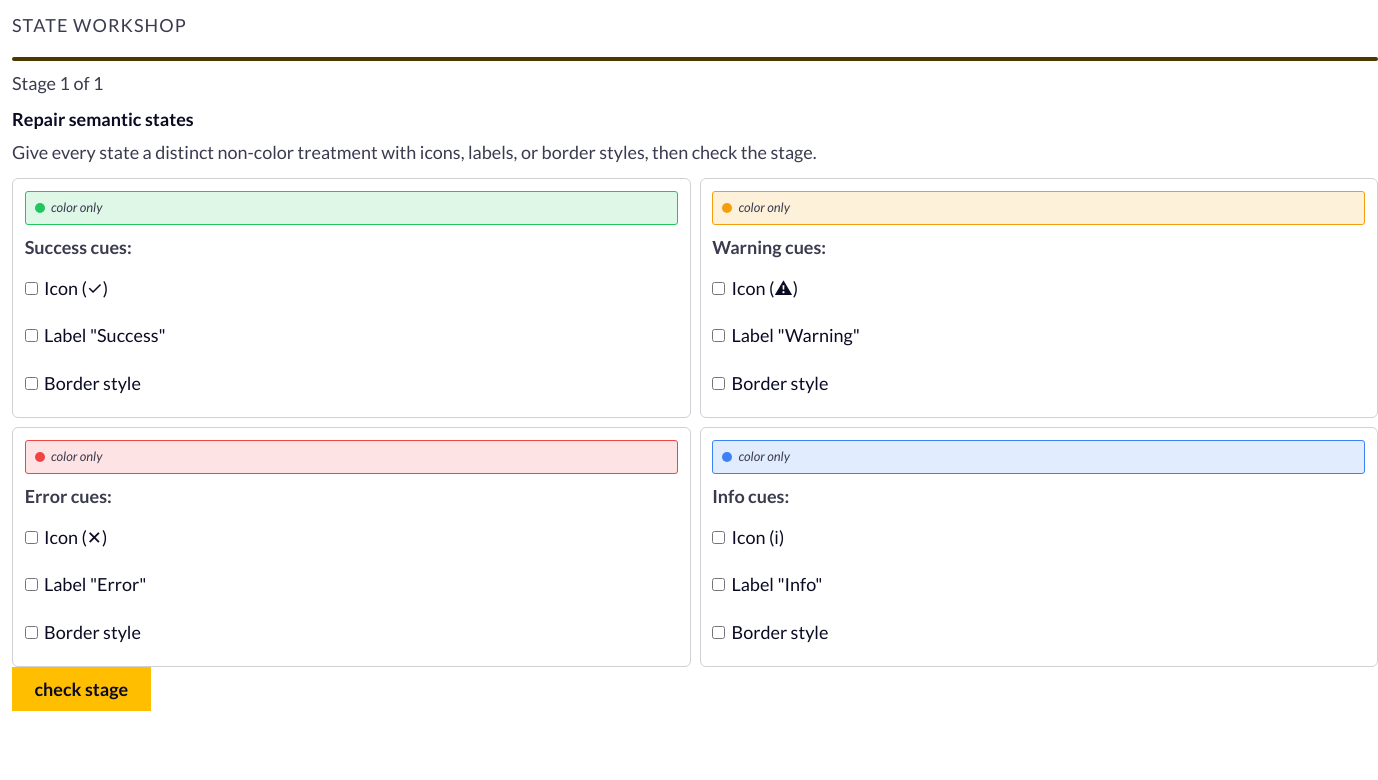
Test case: StateWorkshopTool › completes when each state has a distinct label
This screenshot has width=1378, height=780.
Click the checkbox labelled "Label \"Success\"" at (31, 336), box [25,329,38,342]
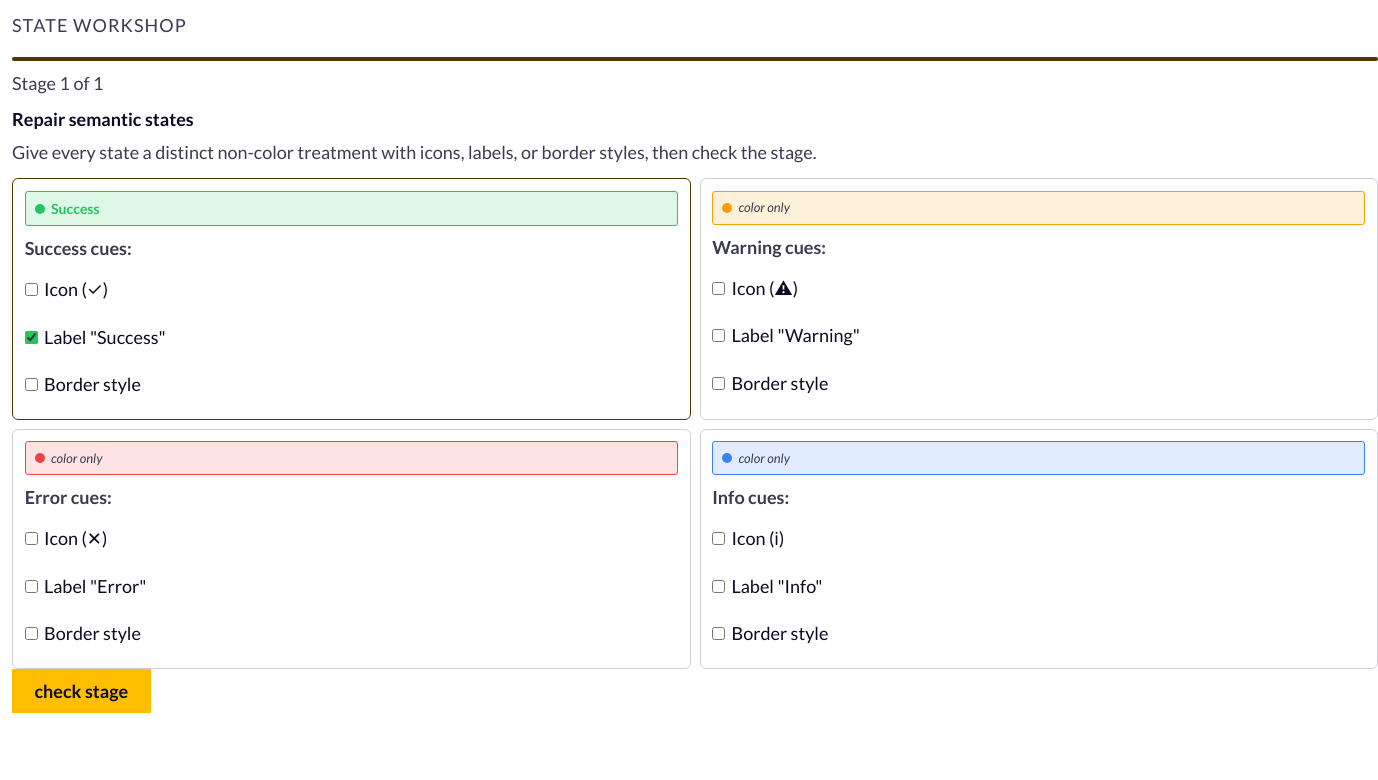
Click the checkbox labelled "Label \"Warning\"" at (719, 336), box [712,329,725,342]
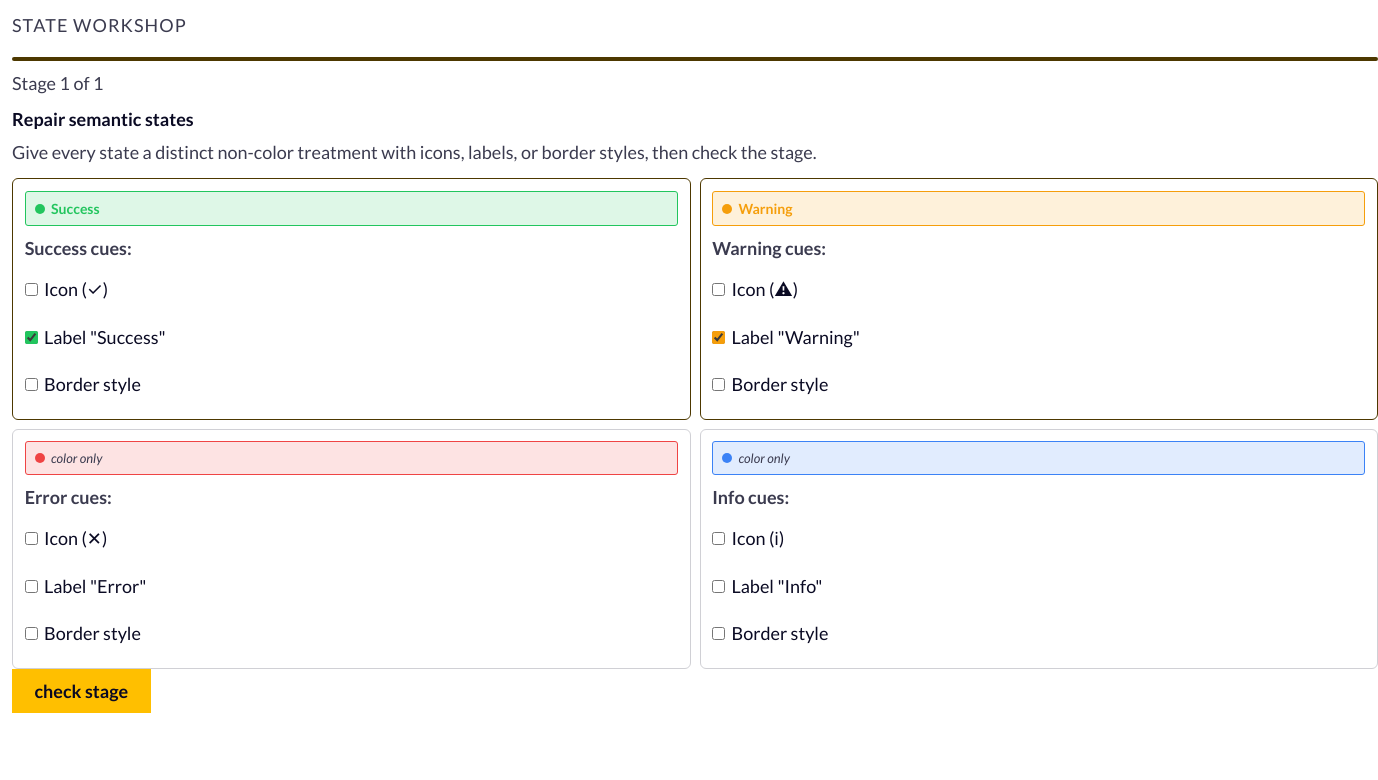
Click the checkbox labelled "Label \"Error\"" at (31, 586), box [25,580,38,593]
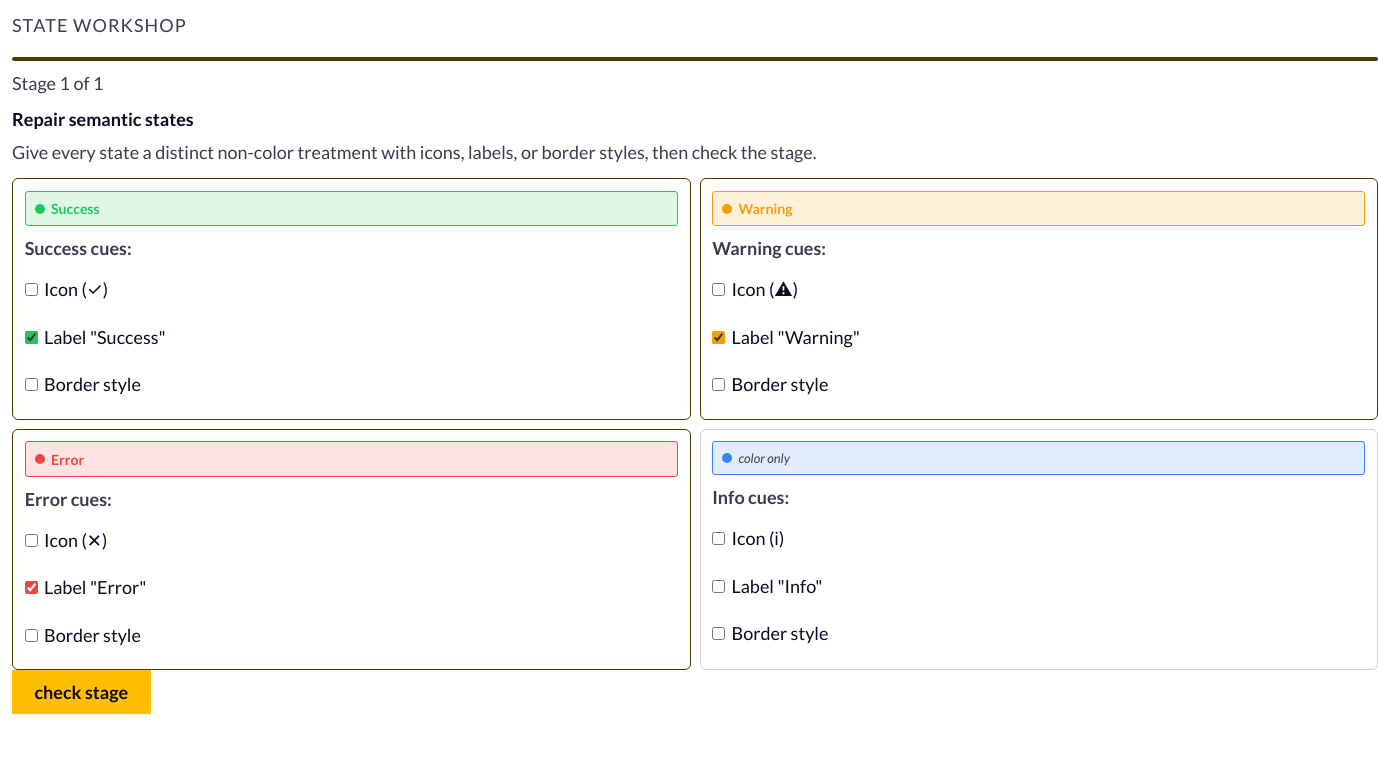
Click the checkbox labelled "Label \"Info\"" at (719, 586), box [712,580,725,593]
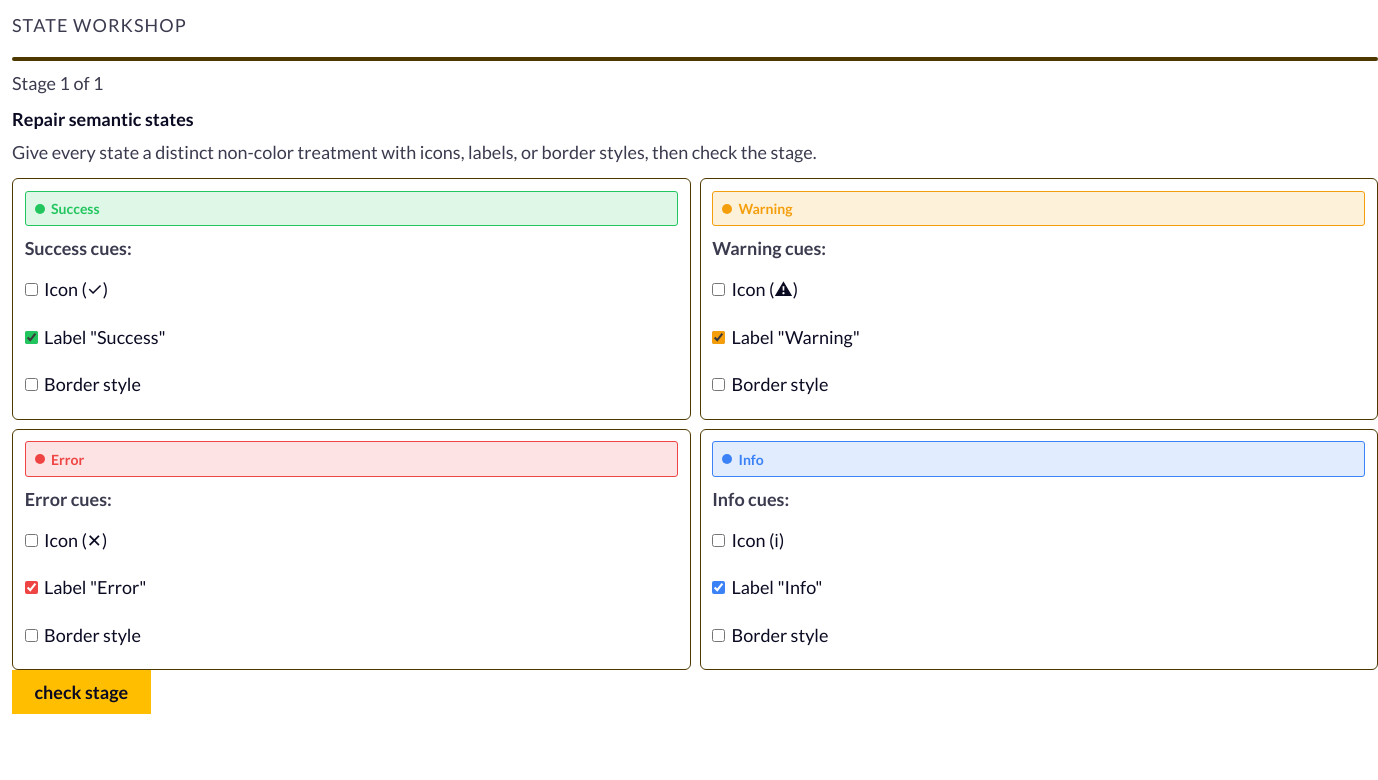
Expected: the text "Stage 1 of 1" is shown, [12,72,103,94]
Click the button "check stage" at (81, 692), box [12,670,151,714]
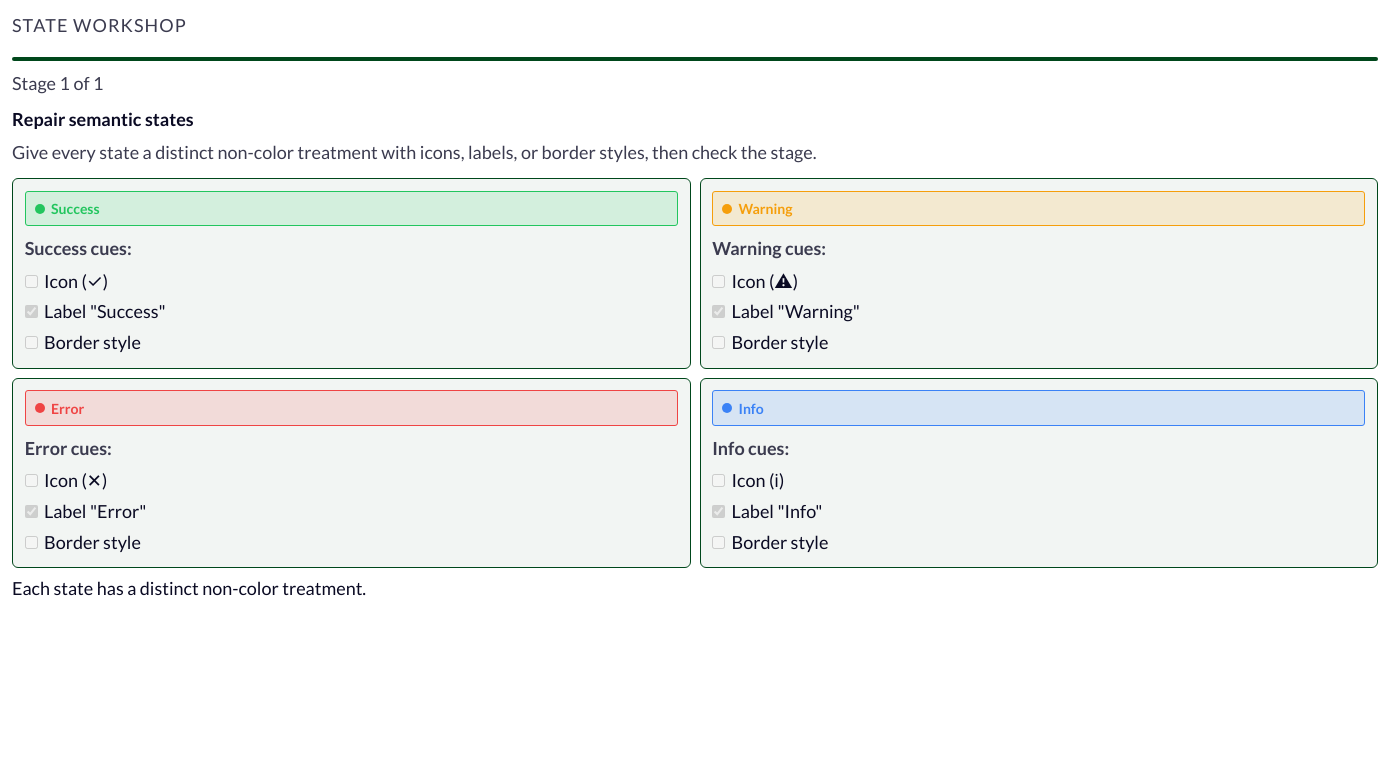
Expected: the text "Each state has a distinct non-color treatment." is shown, [12,577,366,599]
